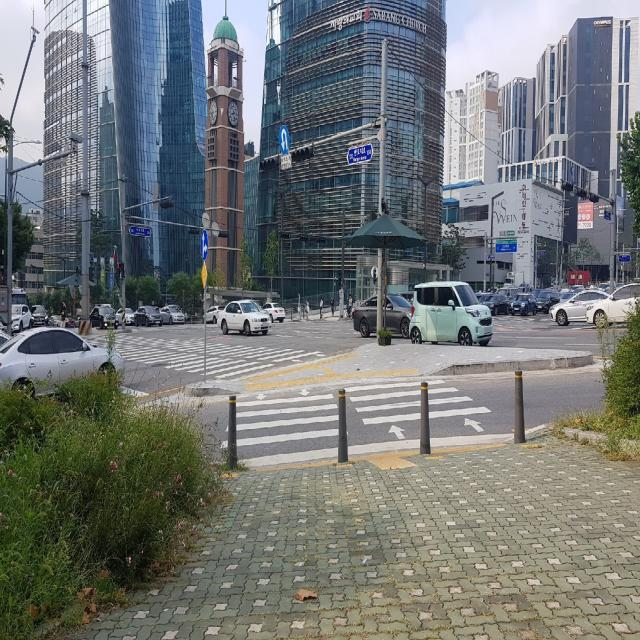빨간불: (117, 264, 120, 276)
횡단보도: (220, 379, 492, 449), (117, 337, 300, 377), (213, 360, 214, 368)
